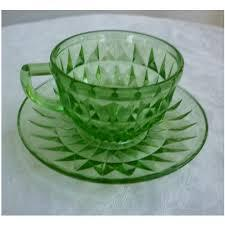glass: (15, 21, 187, 144)
